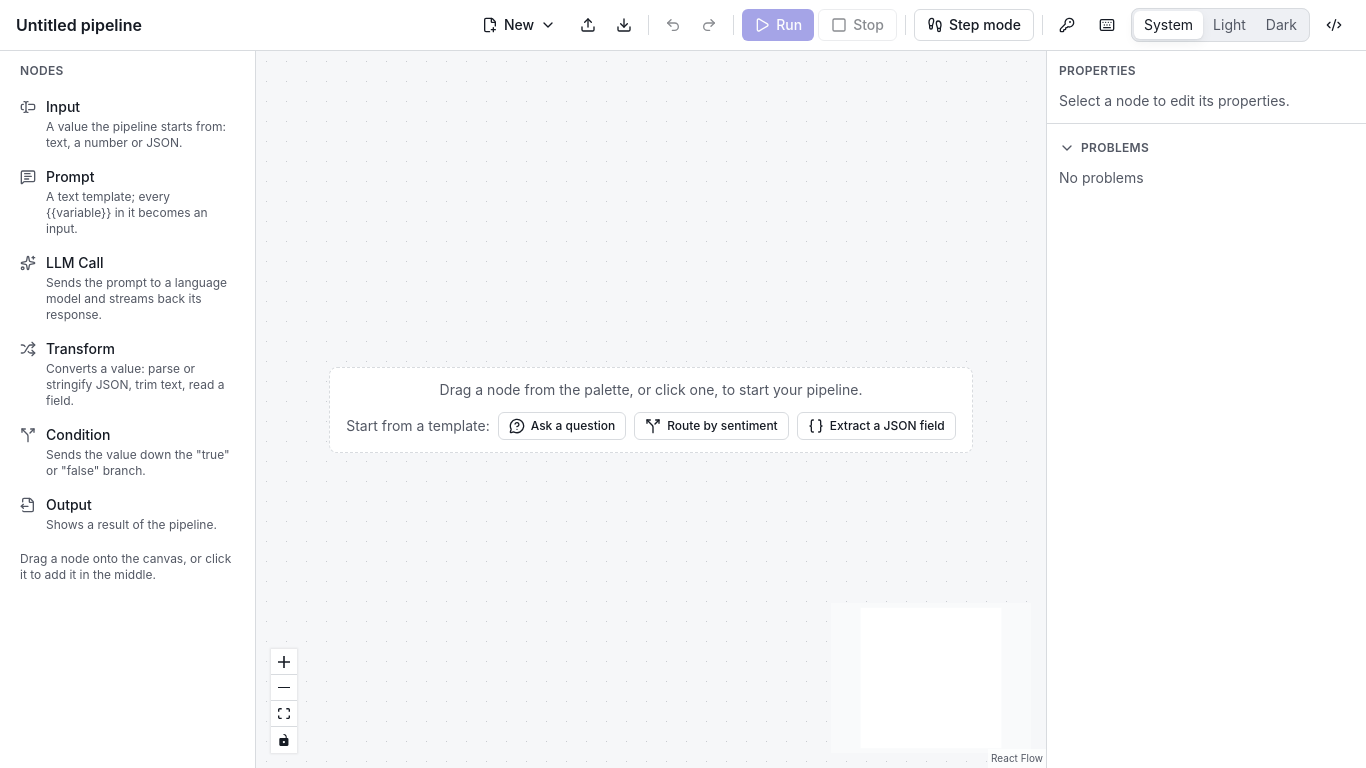
Test case: EditorPage undo and redo › undoes typing in a field in one step and shows the old value
The width and height of the screenshot is (1366, 768).
Click the button with aria-label "Add Prompt" at (128, 202), box [12,161,243,243]
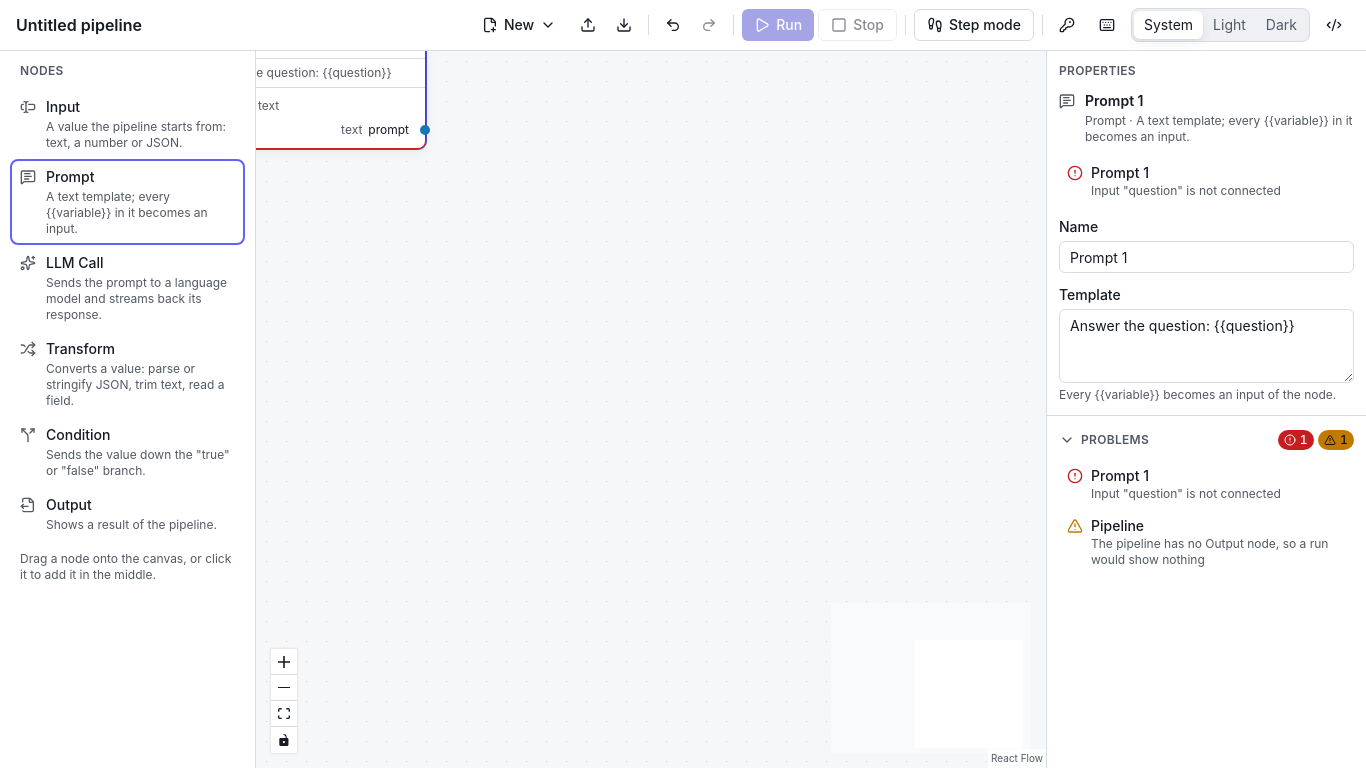
Type "abc" into the text box labelled "Template" at (1206, 346), box [1059,309,1354,383]
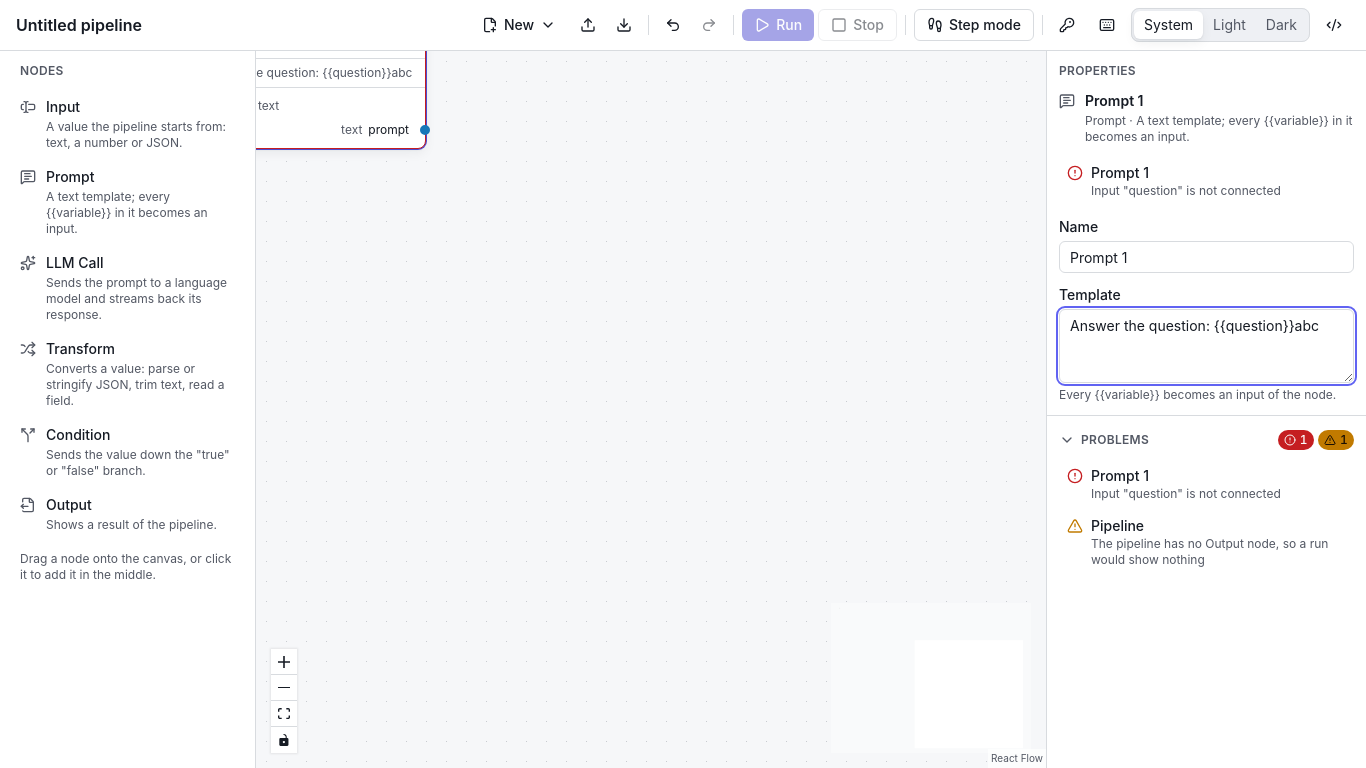
Click the button named "Undo Edit Template of Prompt 1" at (673, 25), box [657,9,689,41]
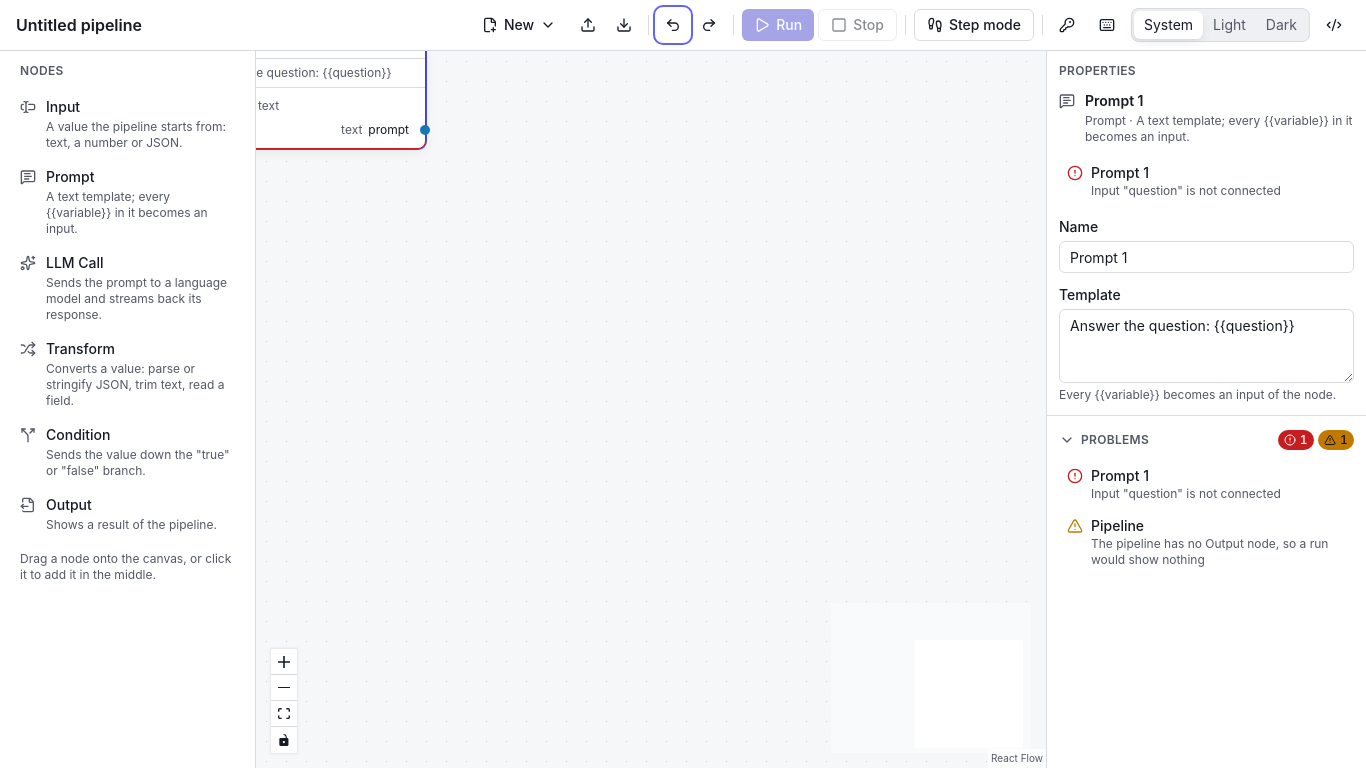
Expected: the button named "Undo Add Prompt" is enabled, [657,9,689,41]
Expected: the text box labelled "Template" holds "Answer the question: {{question}}", [1059,309,1354,383]
Expected: the button named "Redo Edit Template of Prompt 1" is enabled, [693,9,725,41]
